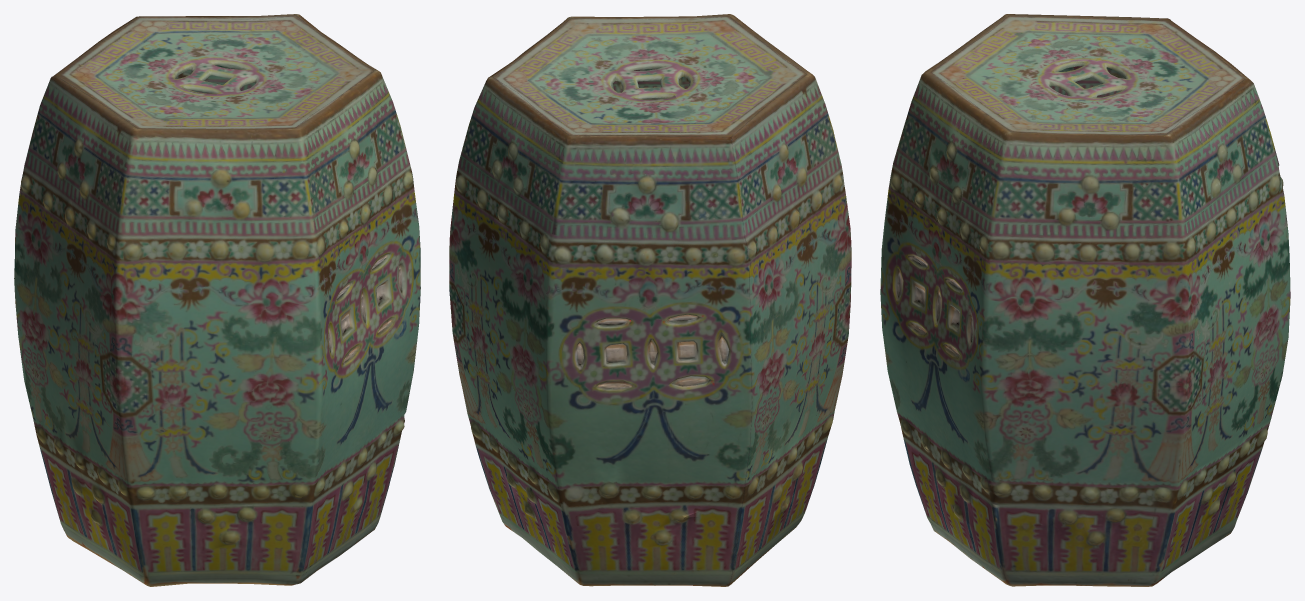
Rendered from DonSuVuong.glb.
3 renders of one model, left to right at view 1: azimuth 30°, elevation 25°; view 2: azimuth 150°, elevation 25°; view 3: azimuth 270°, elevation 25°, orthographic.
Visible parts, largest first — view 1: De_Low_19 - Default_0; view 2: De_Low_19 - Default_0; view 3: De_Low_19 - Default_0.
Boxes of the visible parts, x1,y1,x2,y2 form: De_Low_19 - Default_0: (14, 14, 420, 586); De_Low_19 - Default_0: (449, 14, 851, 586); De_Low_19 - Default_0: (880, 14, 1290, 586).
Bounding box in the file's own units: 15.74 × 22.83 × 18.28.
Materials: 1 (1 with a texture image).
